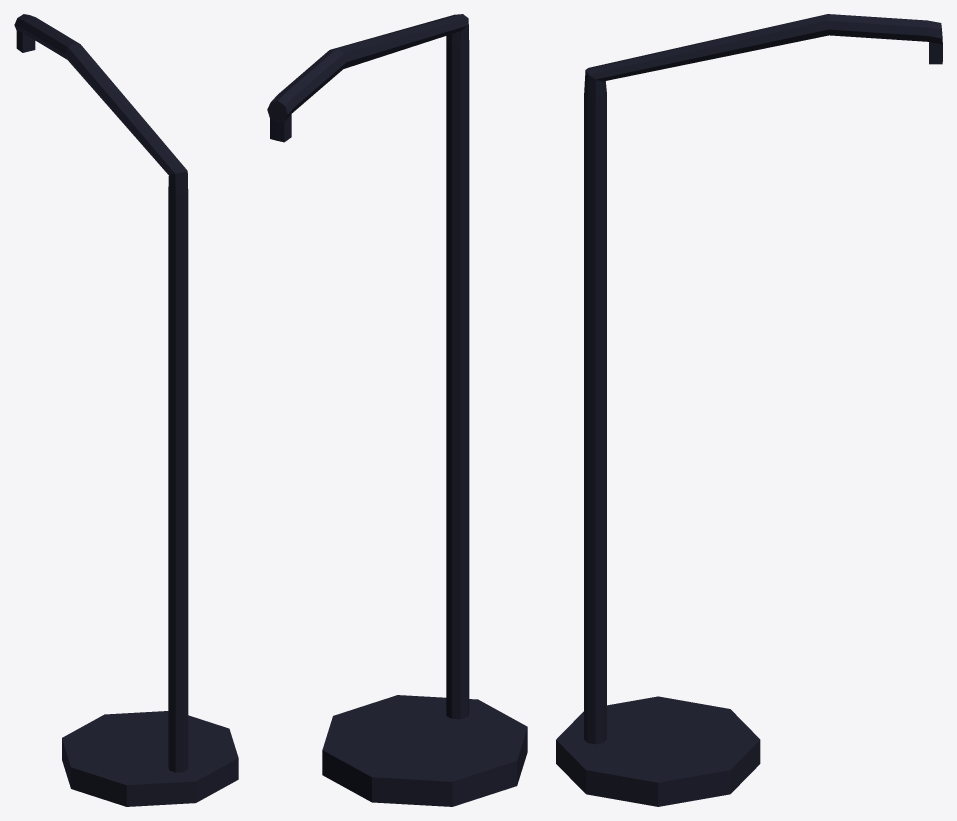
The model's file is Interior_Lamp_TallandEmpty.fbx.
The picture shows the model from 3 angles, left to right: view 1: azimuth 30°, elevation 25°; view 2: azimuth 150°, elevation 25°; view 3: azimuth 270°, elevation 25°; orthographic projection. The views are drawn at different scales.
Parts seen in each view (by area): view 1: Cylinder.059; view 2: Cylinder.059; view 3: Cylinder.059.
Boxes of the visible parts, x1,y1,x2,y2 form: Cylinder.059: (14, 14, 238, 806); Cylinder.059: (267, 14, 527, 806); Cylinder.059: (556, 14, 942, 806).
Size of the model in its own units: 40.98 by 166 by 77.58.
